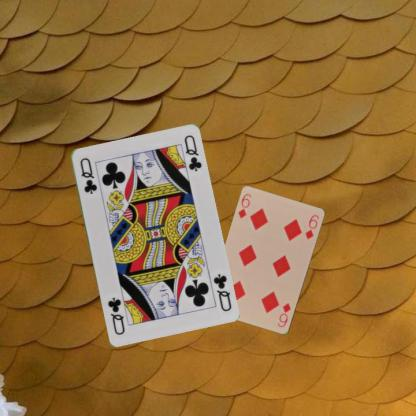6d: (275, 300, 292, 329), (236, 191, 252, 220)
Qc: (210, 271, 233, 313), (77, 155, 98, 195)
